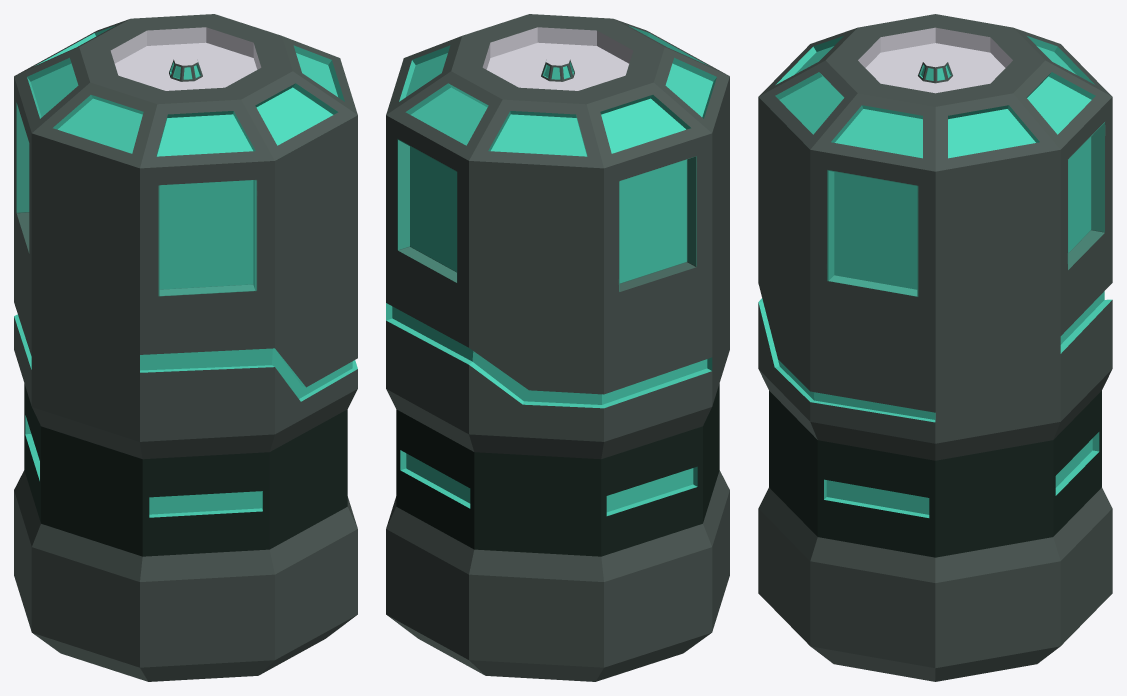
Rendered from BarrelDungeon.fbx.
The picture shows the model from 3 angles, left to right: view 1: azimuth 30°, elevation 25°; view 2: azimuth 150°, elevation 25°; view 3: azimuth 270°, elevation 25°; orthographic projection.
Visible parts, largest first — view 1: Barrel Dungeon; view 2: Barrel Dungeon; view 3: Barrel Dungeon.
Part boxes in pixels (x1,y1,x2,y2): Barrel Dungeon: [14, 14, 357, 681]; Barrel Dungeon: [386, 14, 729, 681]; Barrel Dungeon: [758, 14, 1112, 681].
Bounding box in the file's own units: 137 × 239 × 137.
